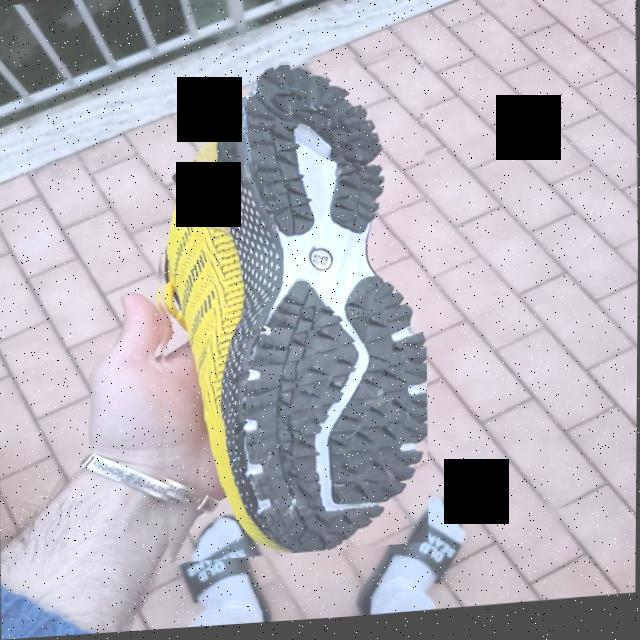shoe: (147, 52, 433, 567)
